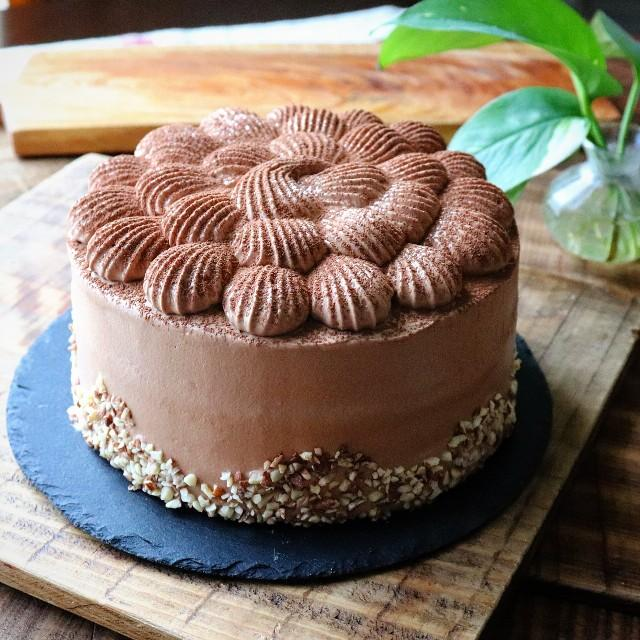chocolatecake: (65, 103, 522, 525)
